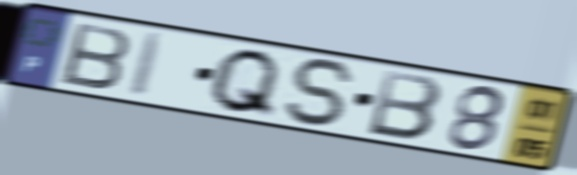8: (445, 83, 506, 153)
B: (364, 66, 445, 143), (58, 19, 134, 92)
I: (125, 29, 170, 101)
Q: (205, 46, 285, 122)
S: (283, 56, 360, 130)
